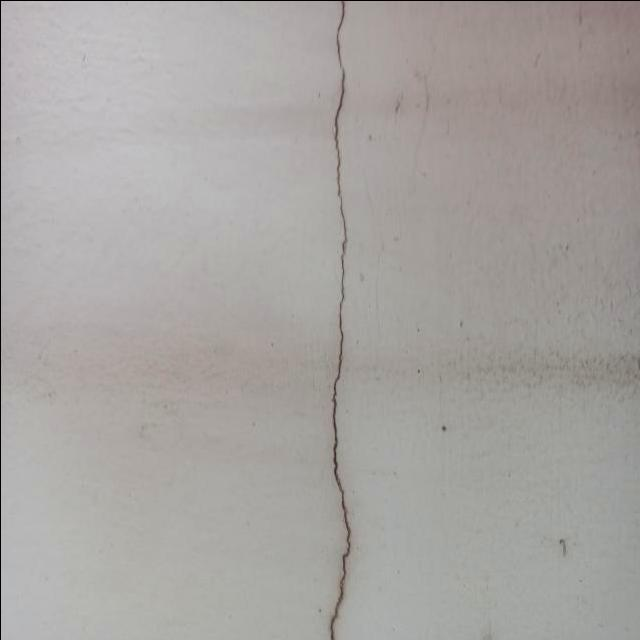SurfaceCrack: (270, 0, 402, 640)
